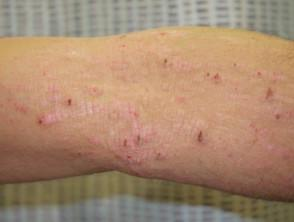Eczema: (119, 130, 168, 170), (25, 109, 61, 128), (155, 47, 179, 75), (264, 85, 286, 113), (202, 71, 225, 95), (56, 91, 79, 110), (90, 80, 109, 103)
